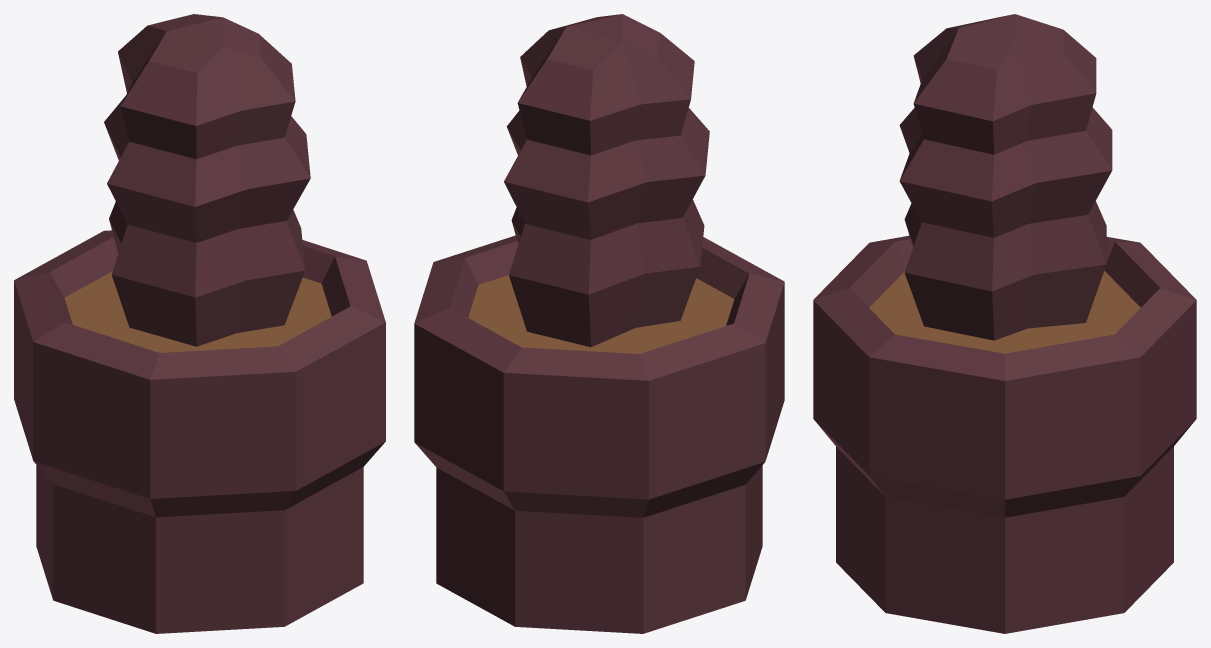
Rendered from pot-small-circle-cactus-a.fbx.
3 views of the same model, side by side, from view 1: azimuth 30°, elevation 25°; view 2: azimuth 150°, elevation 25°; view 3: azimuth 270°, elevation 25° (orthographic).
Visible parts, largest first — view 1: pot-small-circle-cactus-a; view 2: pot-small-circle-cactus-a; view 3: pot-small-circle-cactus-a.
Part boxes in pixels (x1,y1,x2,y2): pot-small-circle-cactus-a: (14,14,385,633); pot-small-circle-cactus-a: (414,14,784,633); pot-small-circle-cactus-a: (813,14,1196,633).
Bounding box in the file's own units: 0.1456 × 0.2241 × 0.1456.
